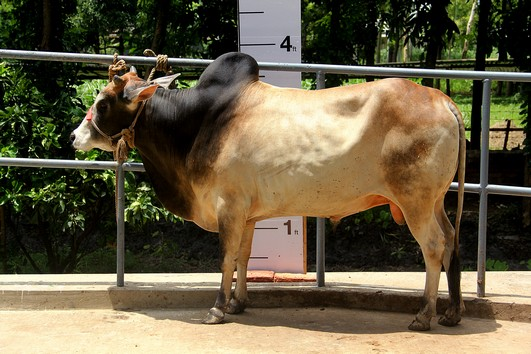cow: (64, 47, 474, 338)
